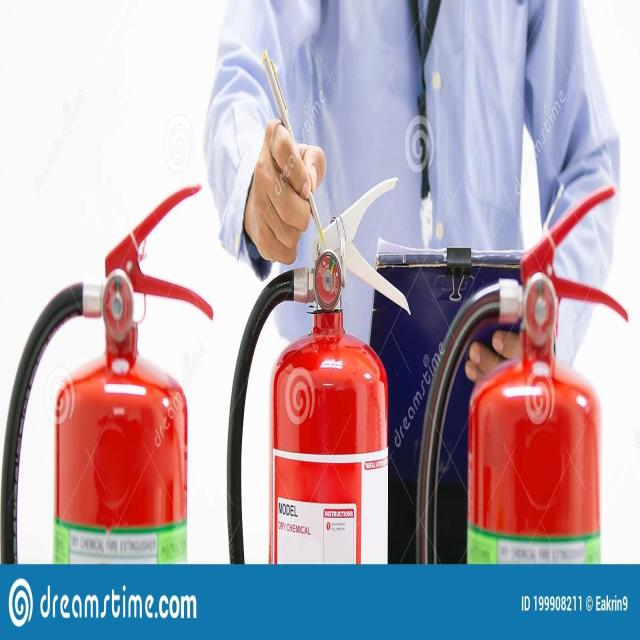fire_extinguisher: (411, 180, 634, 567), (0, 177, 216, 567), (224, 166, 410, 566)
